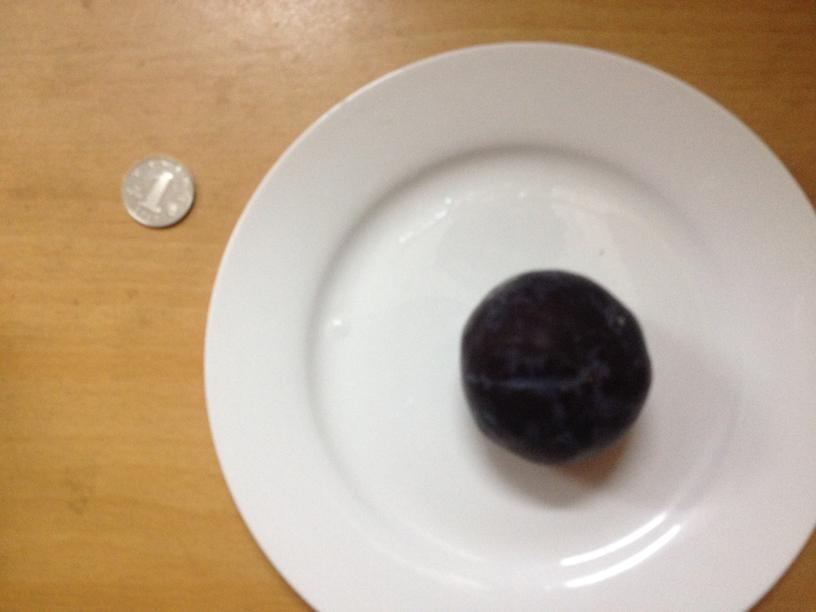coin: (113, 153, 196, 228)
plum: (461, 272, 649, 460)
